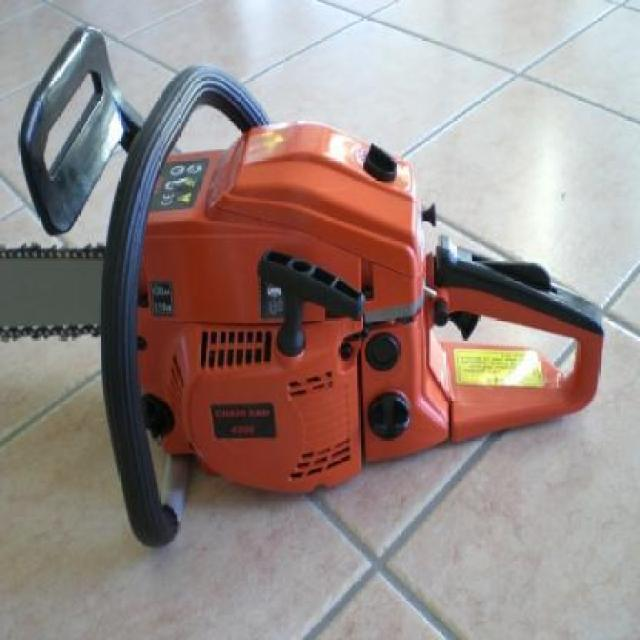Chainsaw: (2, 20, 609, 552)
